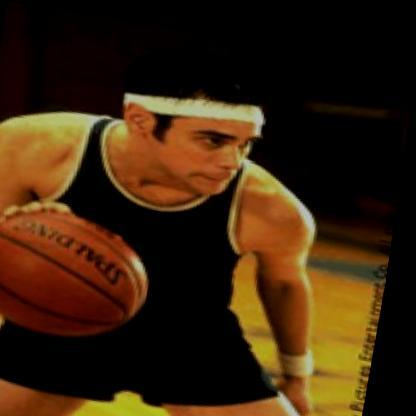basketball: (0, 192, 165, 346)
